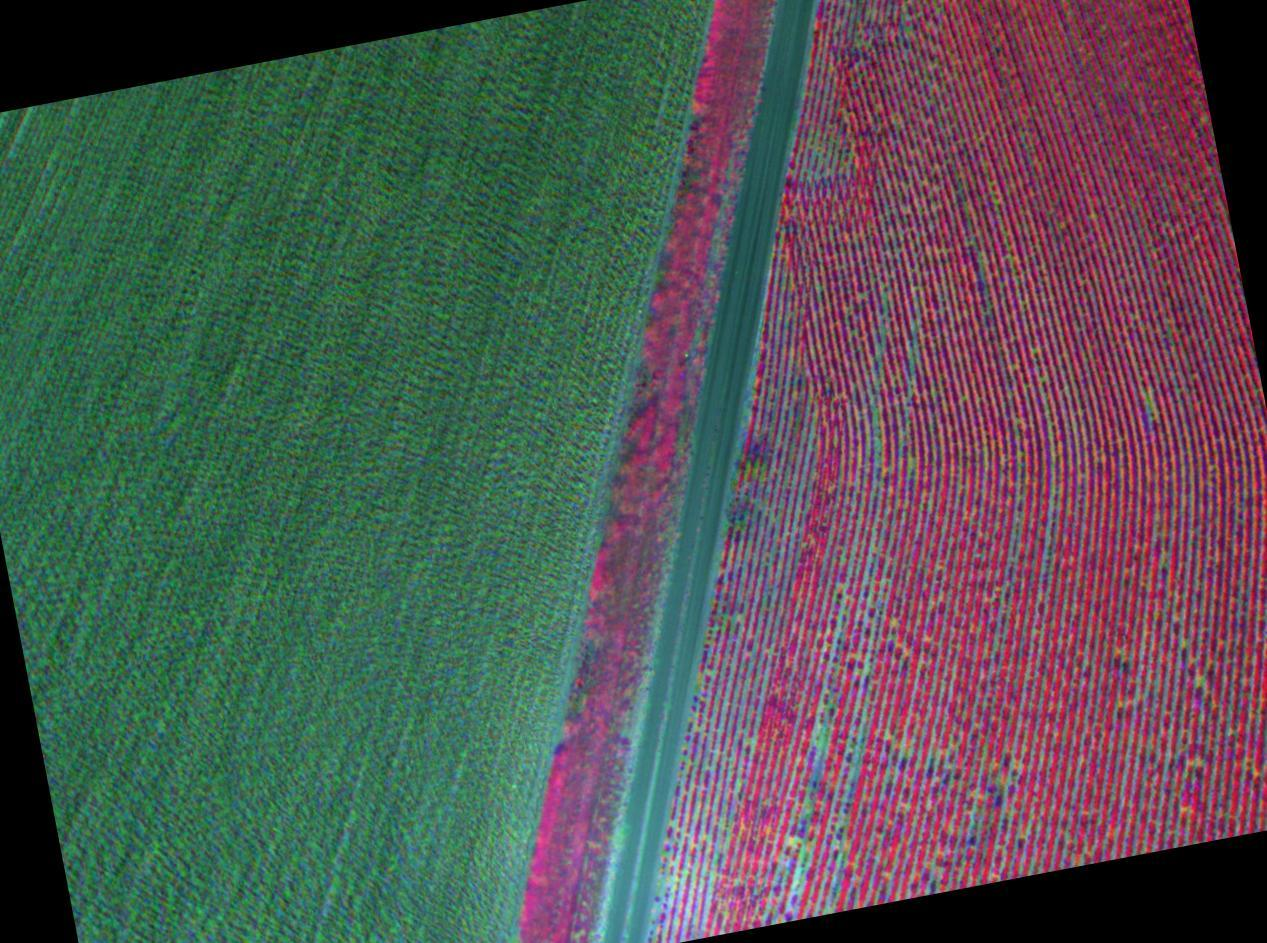dc: (794, 874, 799, 881), (670, 880, 675, 885), (792, 839, 797, 843), (1144, 393, 1148, 397), (975, 793, 978, 797), (1148, 410, 1151, 413), (1180, 642, 1183, 645), (1202, 682, 1205, 685)
